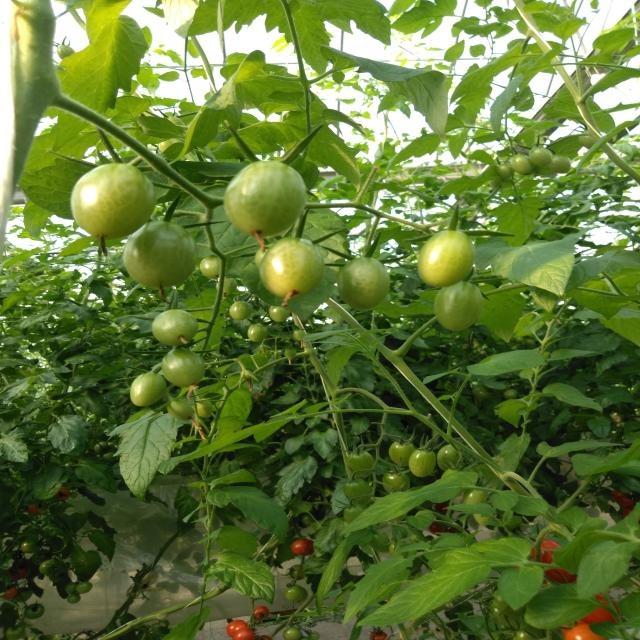unripe tomato: (236, 110, 314, 248)
